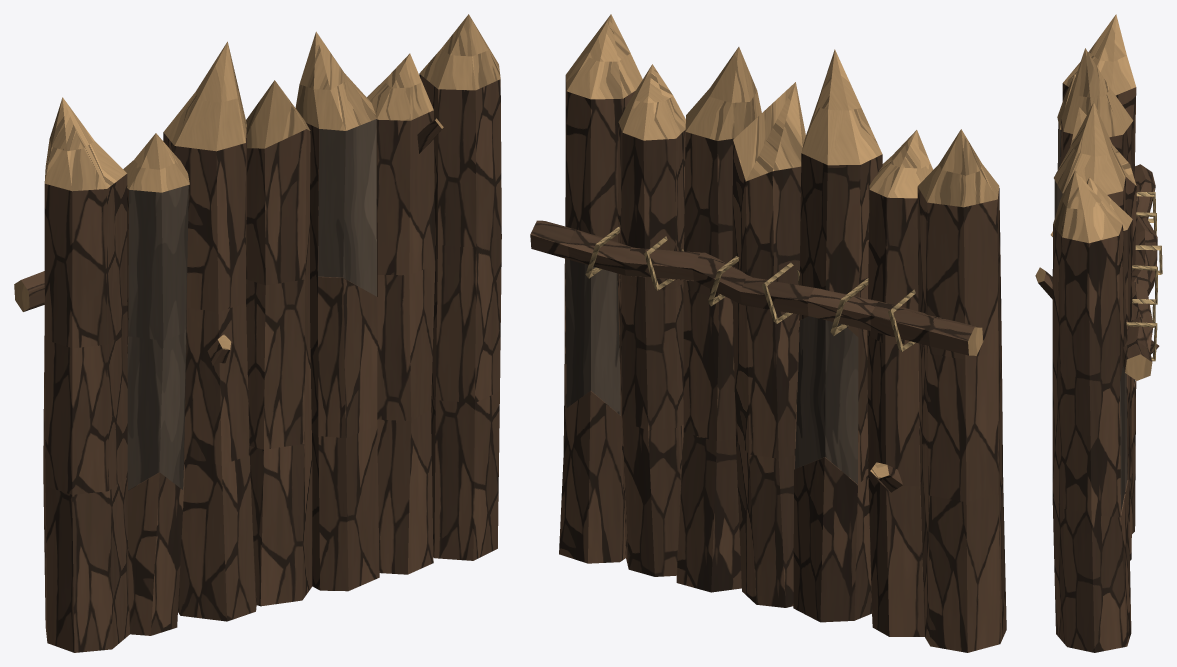
The model's file is SM_SmallPalisadeSection.fbx.
3 renders of one model, left to right at view 1: azimuth 30°, elevation 25°; view 2: azimuth 150°, elevation 25°; view 3: azimuth 270°, elevation 25°, orthographic. The views are drawn at different scales.
Parts seen in each view (by area): view 1: SM_SmallPalisadeSection; view 2: SM_SmallPalisadeSection; view 3: SM_SmallPalisadeSection.
Part boxes in pixels (bbox=[...]): SM_SmallPalisadeSection: bbox=[14, 14, 501, 652]; SM_SmallPalisadeSection: bbox=[530, 14, 1006, 652]; SM_SmallPalisadeSection: bbox=[1035, 14, 1162, 652].
Size of the model in its own units: 2 by 2.4 by 0.5654.
